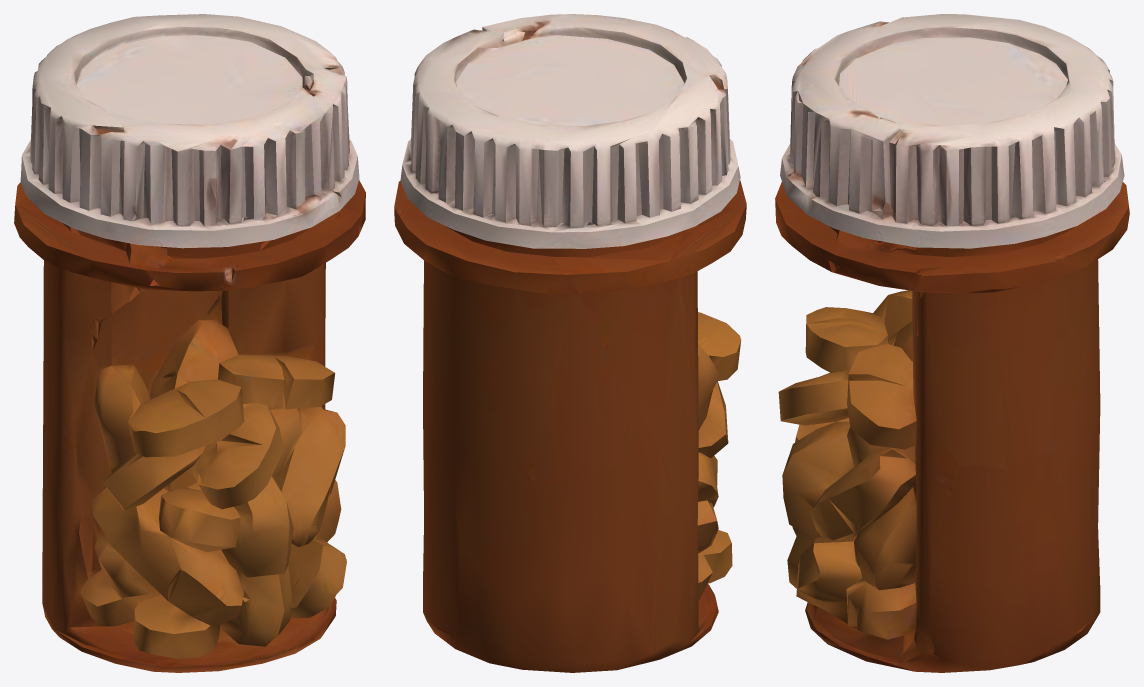
File: painkiller_tabletki_idle.glb
The picture shows the model from 3 angles, left to right: view 1: azimuth 30°, elevation 25°; view 2: azimuth 150°, elevation 25°; view 3: azimuth 270°, elevation 25°; orthographic projection.
Visible parts, largest first — view 1: tripo_node_83d55767-fcf8-4d18-84a8-e7a1639513af; view 2: tripo_node_83d55767-fcf8-4d18-84a8-e7a1639513af; view 3: tripo_node_83d55767-fcf8-4d18-84a8-e7a1639513af.
Part boxes in pixels (box(x1,y1,x2,y2)): tripo_node_83d55767-fcf8-4d18-84a8-e7a1639513af: box(14, 14, 365, 672); tripo_node_83d55767-fcf8-4d18-84a8-e7a1639513af: box(394, 14, 746, 672); tripo_node_83d55767-fcf8-4d18-84a8-e7a1639513af: box(775, 14, 1129, 672).
Bounding box in the file's own units: 0.0477 × 0.08 × 0.048.
Materials: 1 (1 with a texture image).
